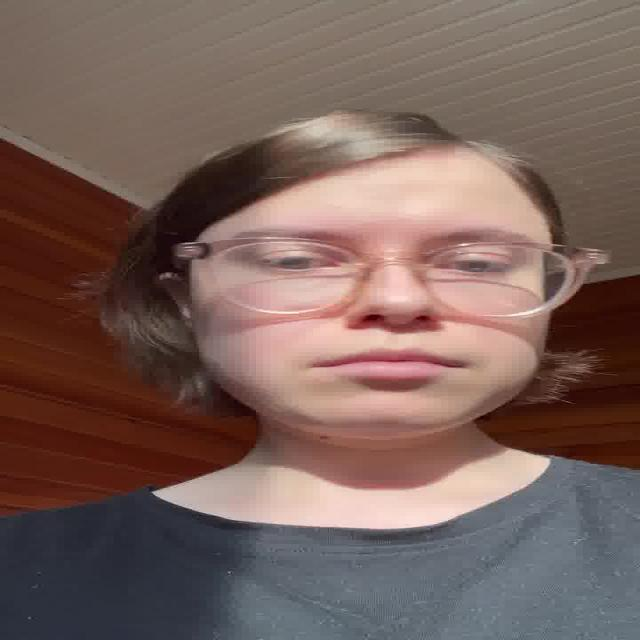earlobe: (155, 271, 194, 332)
